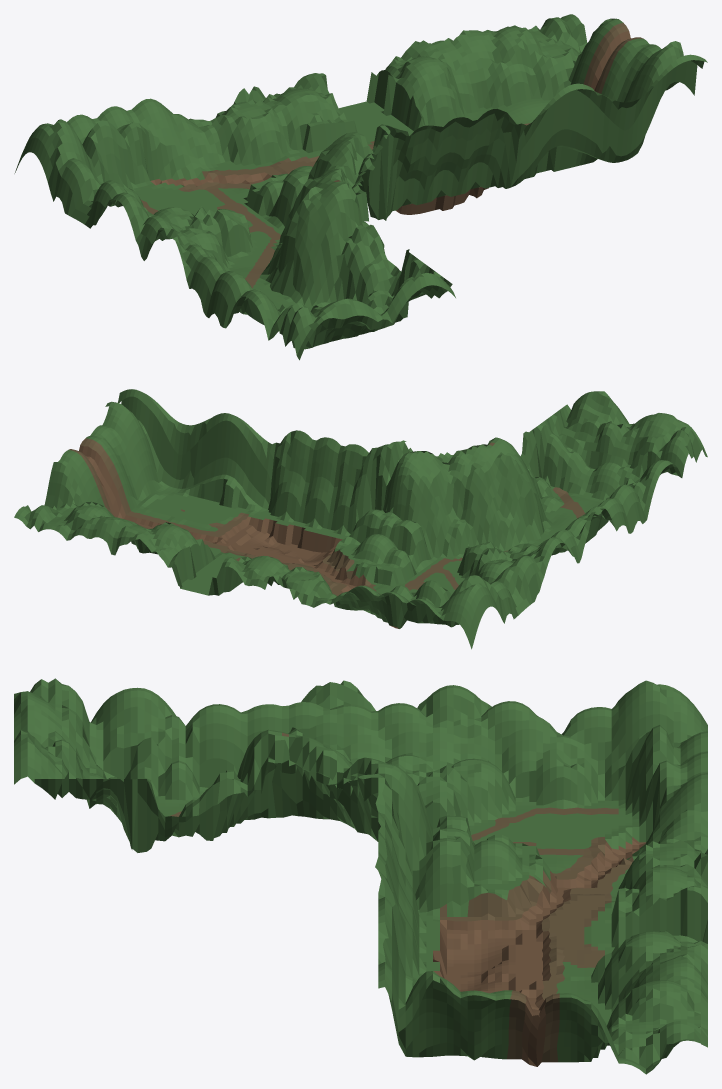
Rendered from LVL2_PT2_Map.fbx.
3 views of the same model, one above another, from view 1: azimuth 30°, elevation 25°; view 2: azimuth 150°, elevation 25°; view 3: azimuth 270°, elevation 25° (orthographic). The views are drawn at different scales.
Visible parts, largest first — view 1: level_4.01; view 2: level_4.01; view 3: level_4.01.
Part boxes in pixels (x1,y1,x2,y2): level_4.01: (14,14,707,360); level_4.01: (14,389,707,649); level_4.01: (14,678,707,1074).
Size of the model in its own units: 39505 by 8476 by 35000.
